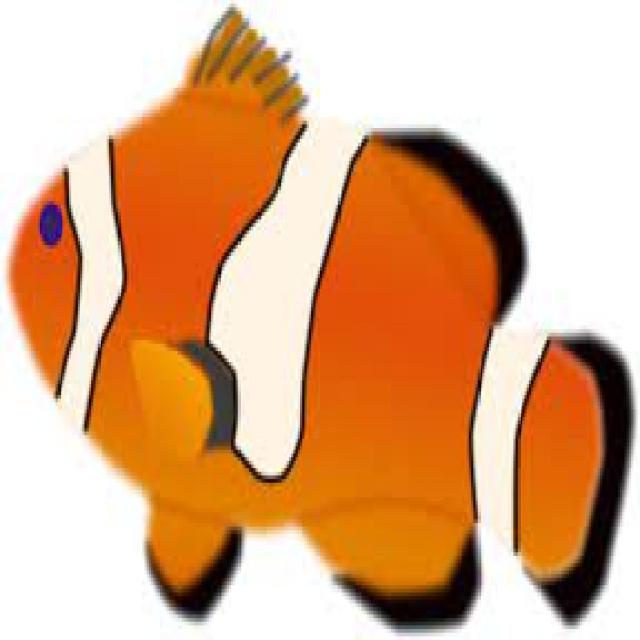Amphiprion-percula: (4, 18, 639, 639)
